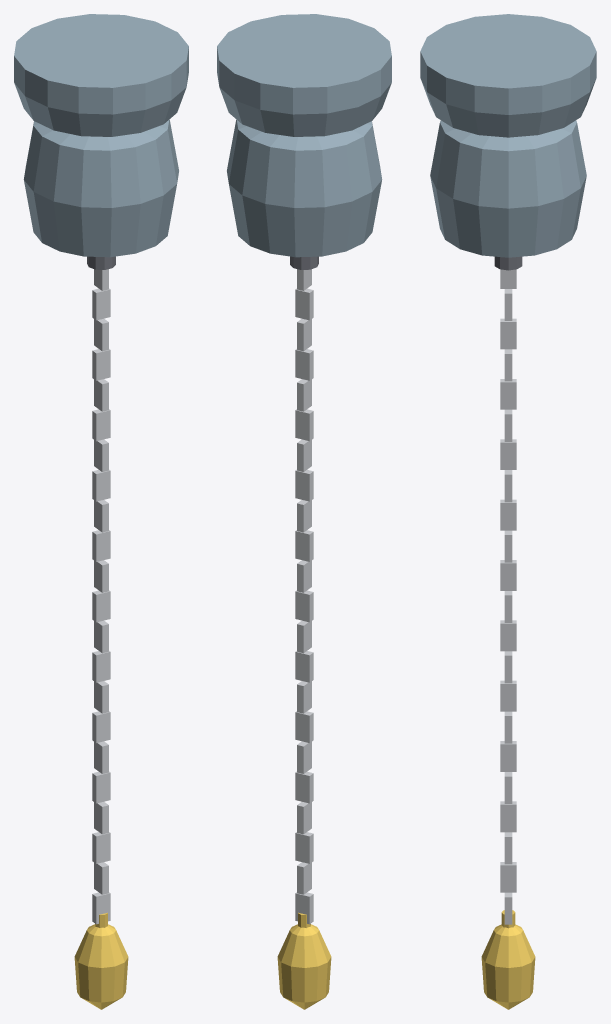
File: animated-mechanisms-kit-chain-pull-9e92ac7b__24640.glb
The picture shows the model from 3 angles, left to right: view 1: azimuth 30°, elevation 25°; view 2: azimuth 150°, elevation 25°; view 3: azimuth 270°, elevation 25°; orthographic projection.
Parts seen in each view (by area): view 1: chain-pull, cord/steel, cord/accent; view 2: chain-pull, cord/steel, cord/accent; view 3: chain-pull, cord/steel, cord/accent.
Boxes of the visible parts, box(x1,y1,x2,y2) form: chain-pull: box(14, 14, 188, 269); cord/steel: box(92, 269, 110, 924); cord/accent: box(74, 912, 128, 1009); chain-pull: box(217, 14, 391, 269); cord/steel: box(295, 269, 313, 924); cord/accent: box(277, 912, 331, 1009); chain-pull: box(420, 14, 596, 270); cord/steel: box(500, 269, 516, 924); cord/accent: box(481, 910, 535, 1009).
Size of the model in its own units: 0.36 by 2.16 by 0.36.
